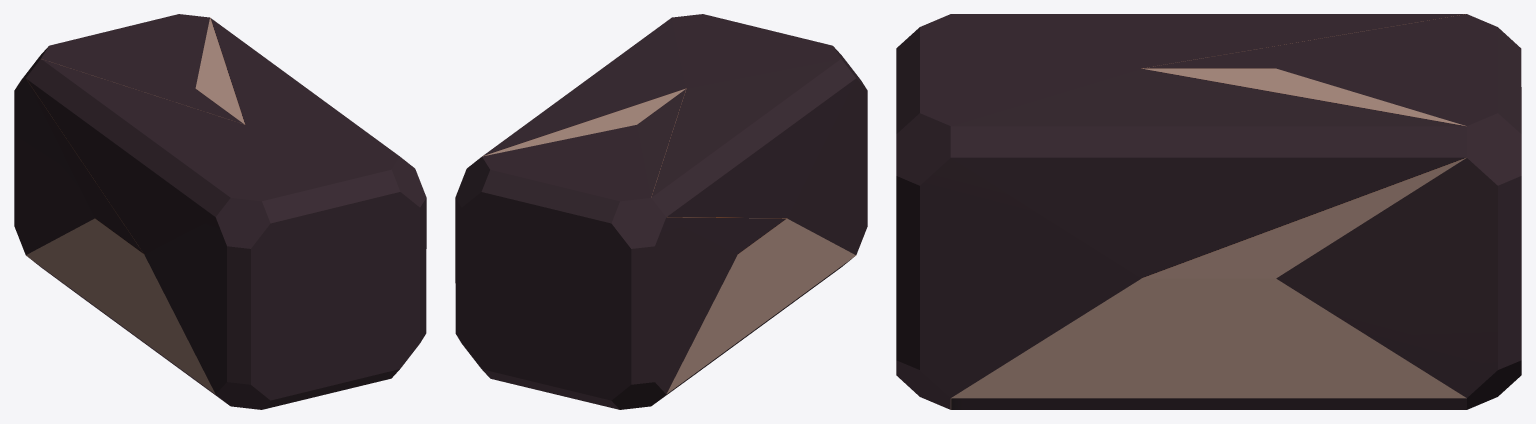
The model's file is YK_Charger_Collider.obj.
3 renders of one model, left to right at view 1: azimuth 30°, elevation 25°; view 2: azimuth 150°, elevation 25°; view 3: azimuth 270°, elevation 25°, orthographic. The views are drawn at different scales.
Parts seen in each view (by area): view 1: base_BF_Block_111.001; view 2: base_BF_Block_111.001; view 3: base_BF_Block_111.001.
Part boxes in pixels (x1,y1,x2,y2): base_BF_Block_111.001: [14, 14, 426, 409]; base_BF_Block_111.001: [455, 14, 867, 409]; base_BF_Block_111.001: [896, 14, 1521, 409].
Size of the model in its own units: 1.01 by 1.01 by 2.
